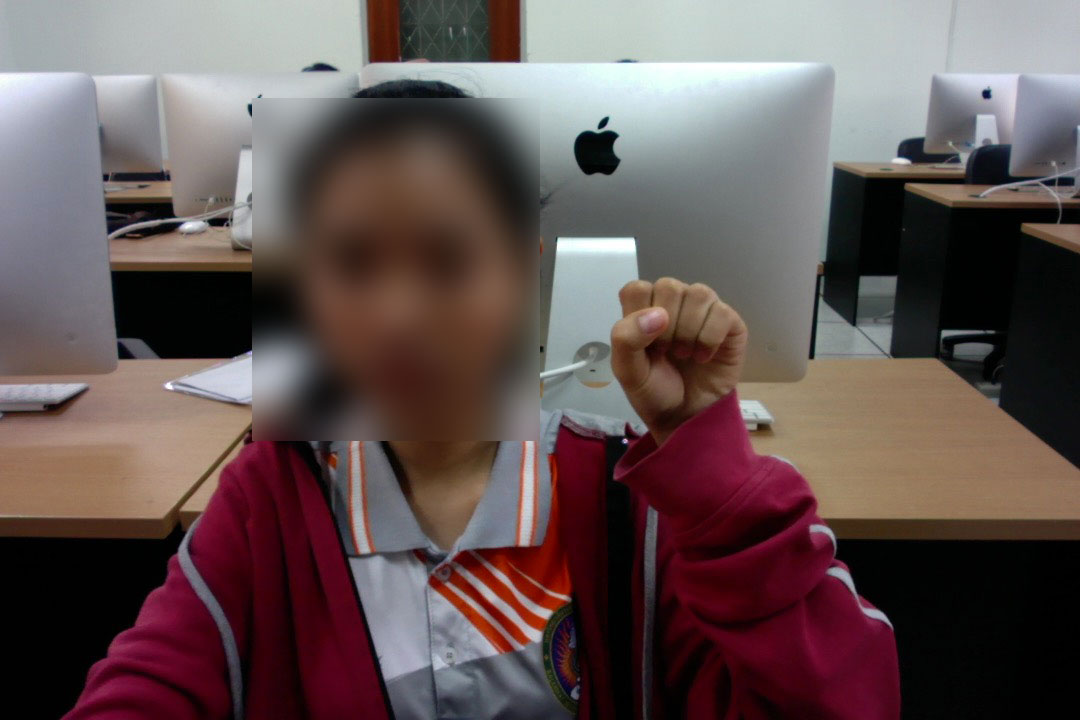sor: (601, 269, 752, 452)
